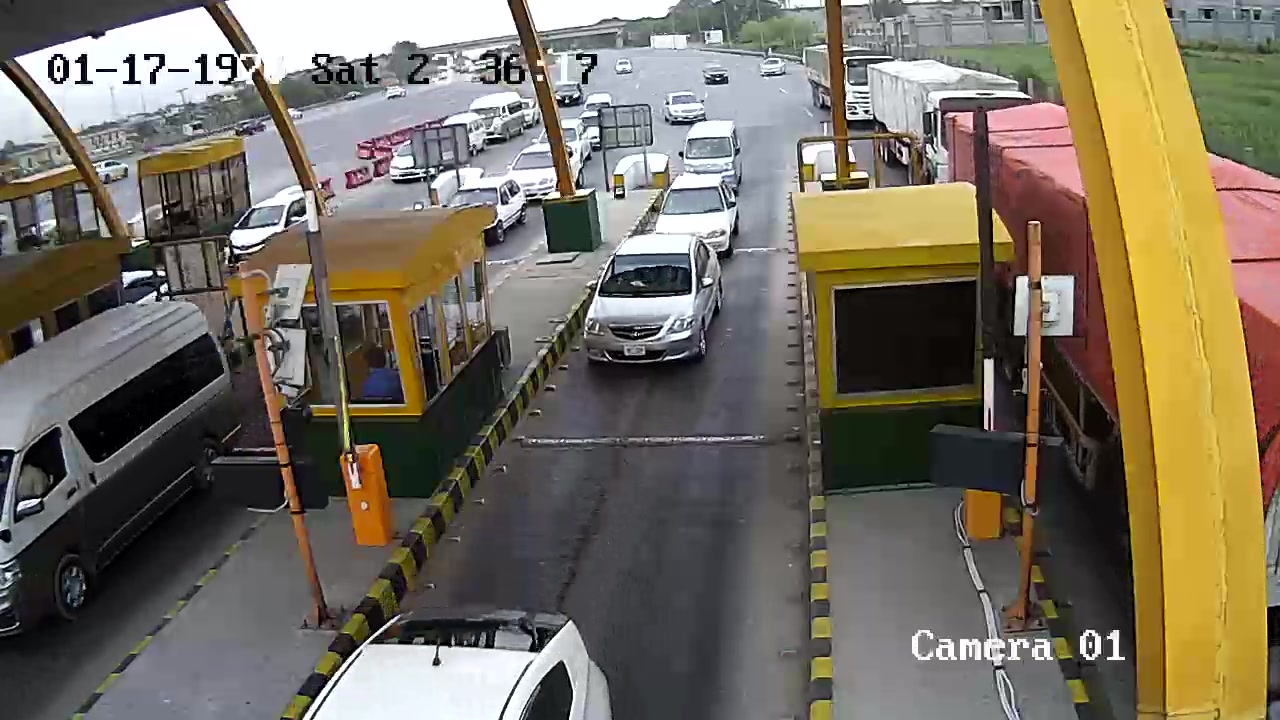F1: (575, 233, 732, 379)
